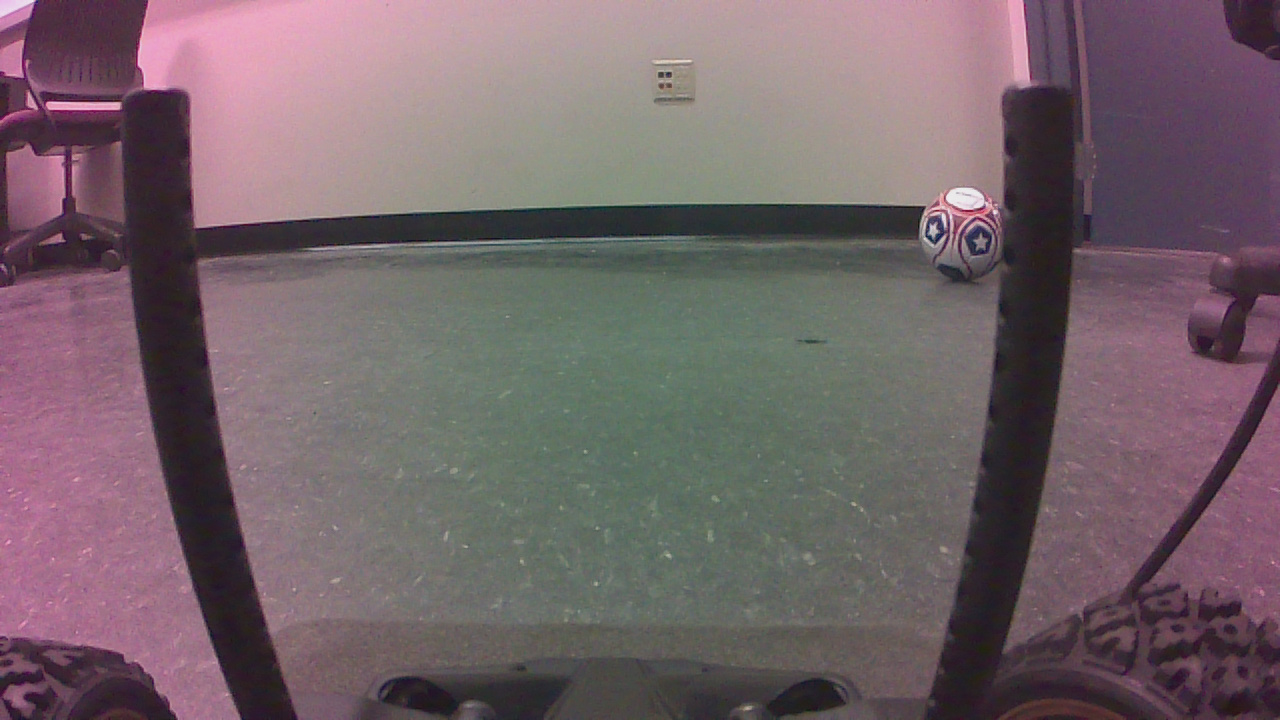ball: (922, 191, 1010, 286)
